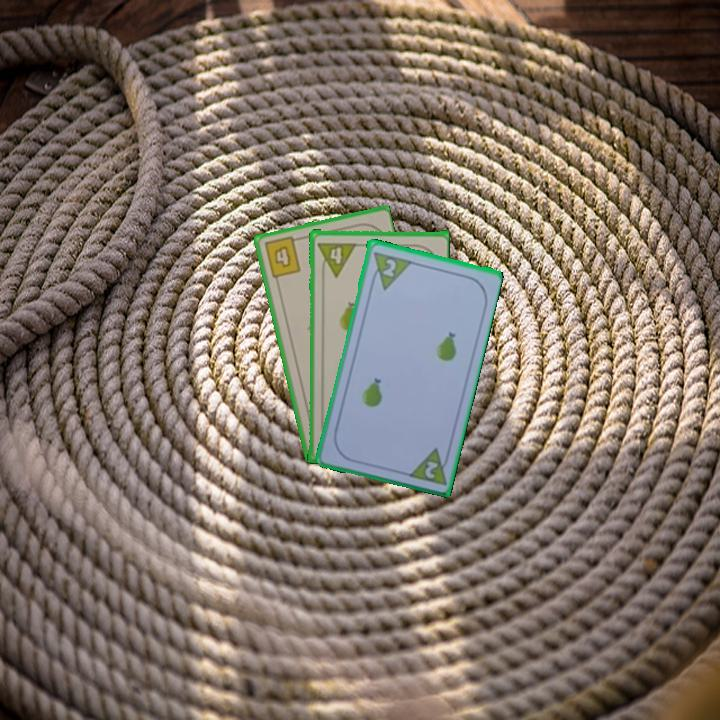2p: (403, 443, 453, 488), (378, 255, 399, 280)
4b: (261, 233, 303, 281)
4p: (313, 238, 358, 278)
